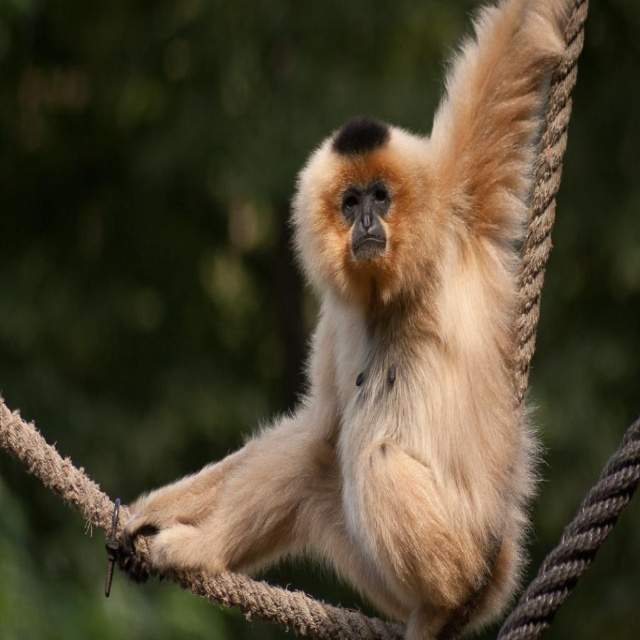Monkey: (124, 0, 575, 639)
